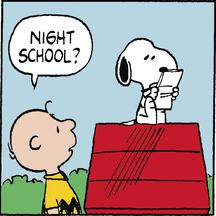charlie: (7, 100, 83, 216)
snoopy: (114, 37, 180, 127)
